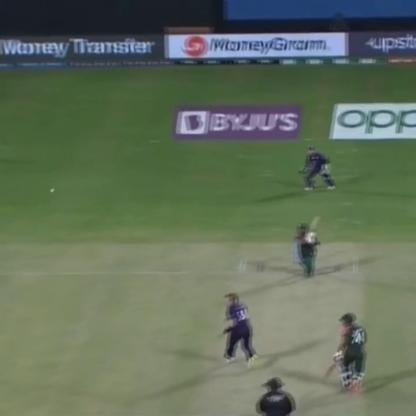ball: (43, 185, 62, 197)
pitch: (224, 250, 369, 416)
